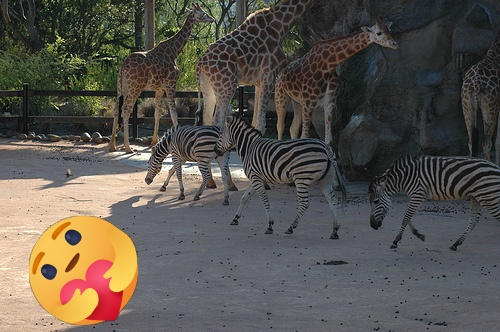care: (29, 216, 138, 325)
